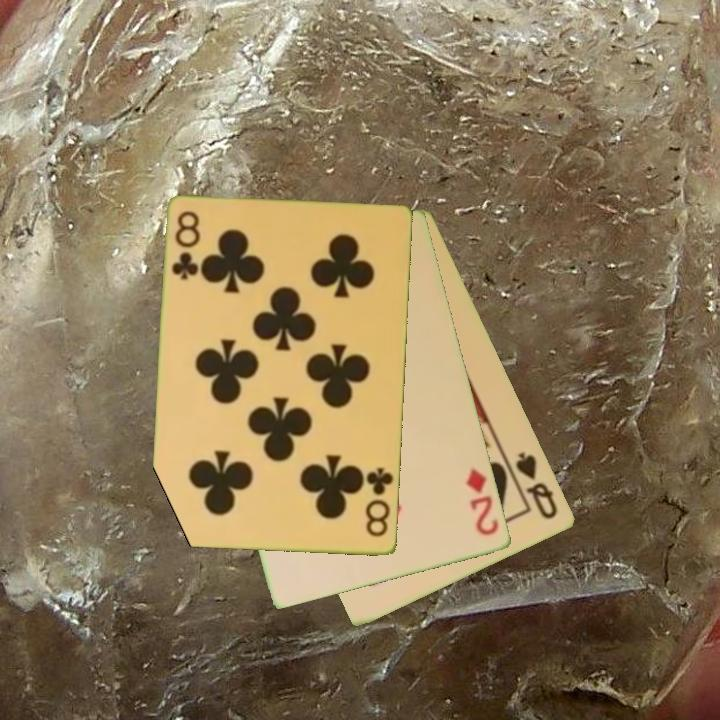2d: (463, 464, 502, 539)
8c: (362, 464, 397, 541), (168, 208, 203, 283)
Qs: (512, 448, 561, 523)
